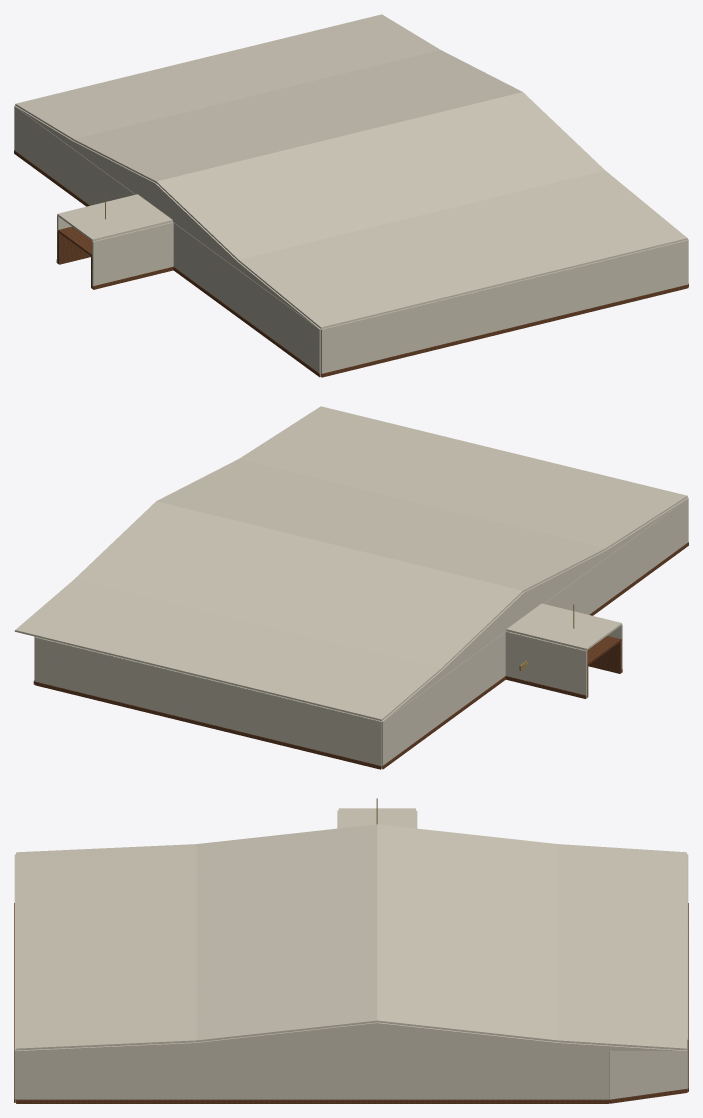
The model's file is SOL_D06_directory_08_remaining_batch.glb.
3 renders of one model, top to bottom at view 1: azimuth 30°, elevation 25°; view 2: azimuth 150°, elevation 25°; view 3: azimuth 270°, elevation 25°, orthographic. The views are drawn at different scales.
Parts seen in each view (by area): view 1: Nave_roof34__EXPORT, Nave_roof48__EXPORT, Nave_roof20__EXPORT, Nave_roof10__EXPORT, Enclosure_5__EXPORT, Enclosure_6__EXPORT, Enclosure_1__EXPORT, Enclosure_7__EXPORT, Nave_entry_roof__EXPORT, Wall_base_5__EXPORT, Nave_upper_enclosure(8, 34)__EXPORT, Nave_upper_enclosure(8, 20)__EXPORT (+2 smaller); view 2: Nave_roof20__EXPORT, Nave_roof48__EXPORT, Nave_roof10__EXPORT, Nave_roof34__EXPORT, Enclosure_2__EXPORT, Enclosure_1__EXPORT, Enclosure_6__EXPORT, Enclosure_0__EXPORT, Nave_entry_roof__EXPORT, Wall_base_2__EXPORT, Nave_upper_enclosure(8, 20)__EXPORT, Nave_upper_enclosure(8, 34)__EXPORT (+2 smaller); view 3: Nave_roof34__EXPORT, Nave_roof48__EXPORT, Nave_roof20__EXPORT, Enclosure_4__EXPORT, Nave_roof10__EXPORT, Enclosure_3__EXPORT, Nave_upper_enclosure(44, 34)__EXPORT, Nave_upper_enclosure(44, 20)__EXPORT, Wall_base_4__EXPORT, Nave_entry_roof__EXPORT, Nave_upper_enclosure(44, 48)__EXPORT, Nave_upper_enclosure(44, 10)__EXPORT (+2 smaller).
Boxes of the visible parts, x1,y1,x2,y2 form: Nave_roof34__EXPORT: (156, 92, 604, 260); Nave_roof48__EXPORT: (238, 170, 687, 328); Nave_roof20__EXPORT: (74, 50, 522, 182); Nave_roof10__EXPORT: (15, 14, 440, 140); Enclosure_5__EXPORT: (321, 240, 687, 376); Enclosure_6__EXPORT: (173, 223, 320, 377); Enclosure_1__EXPORT: (14, 106, 135, 205); Enclosure_7__EXPORT: (92, 222, 173, 288); Nave_entry_roof__EXPORT: (57, 194, 172, 241); Wall_base_5__EXPORT: (321, 284, 688, 377); Nave_upper_enclosure(8, 34)__EXPORT: (155, 183, 238, 268); Nave_upper_enclosure(8, 20)__EXPORT: (73, 141, 155, 206); Nave_roof20__EXPORT: (74, 501, 522, 670); Nave_roof48__EXPORT: (239, 406, 687, 549); Nave_roof10__EXPORT: (15, 579, 440, 721); Nave_roof34__EXPORT: (156, 459, 605, 591); Enclosure_2__EXPORT: (35, 637, 381, 768); Enclosure_1__EXPORT: (381, 632, 505, 769); Enclosure_6__EXPORT: (544, 498, 688, 614); Enclosure_0__EXPORT: (505, 631, 587, 698); Nave_entry_roof__EXPORT: (506, 603, 621, 650); Wall_base_2__EXPORT: (34, 681, 381, 769); Nave_upper_enclosure(8, 20)__EXPORT: (441, 592, 523, 677); Nave_upper_enclosure(8, 34)__EXPORT: (523, 550, 606, 615); Nave_roof34__EXPORT: (196, 824, 377, 1042); Nave_roof48__EXPORT: (16, 844, 196, 1050); Nave_roof20__EXPORT: (377, 824, 557, 1042); Enclosure_4__EXPORT: (16, 1051, 609, 1099); Nave_roof10__EXPORT: (558, 844, 686, 1050); Enclosure_3__EXPORT: (609, 1040, 687, 1099); Nave_upper_enclosure(44, 34)__EXPORT: (196, 1022, 377, 1050); Nave_upper_enclosure(44, 20)__EXPORT: (377, 1022, 557, 1050); Wall_base_4__EXPORT: (16, 1099, 609, 1103); Nave_entry_roof__EXPORT: (338, 808, 415, 828); Nave_upper_enclosure(44, 48)__EXPORT: (16, 1042, 196, 1050); Nave_upper_enclosure(44, 10)__EXPORT: (558, 1042, 686, 1050).
Bounding box in the file's own units: 44.15 × 7.06 × 52.3.
Materials: 22 (21 with a texture image).
